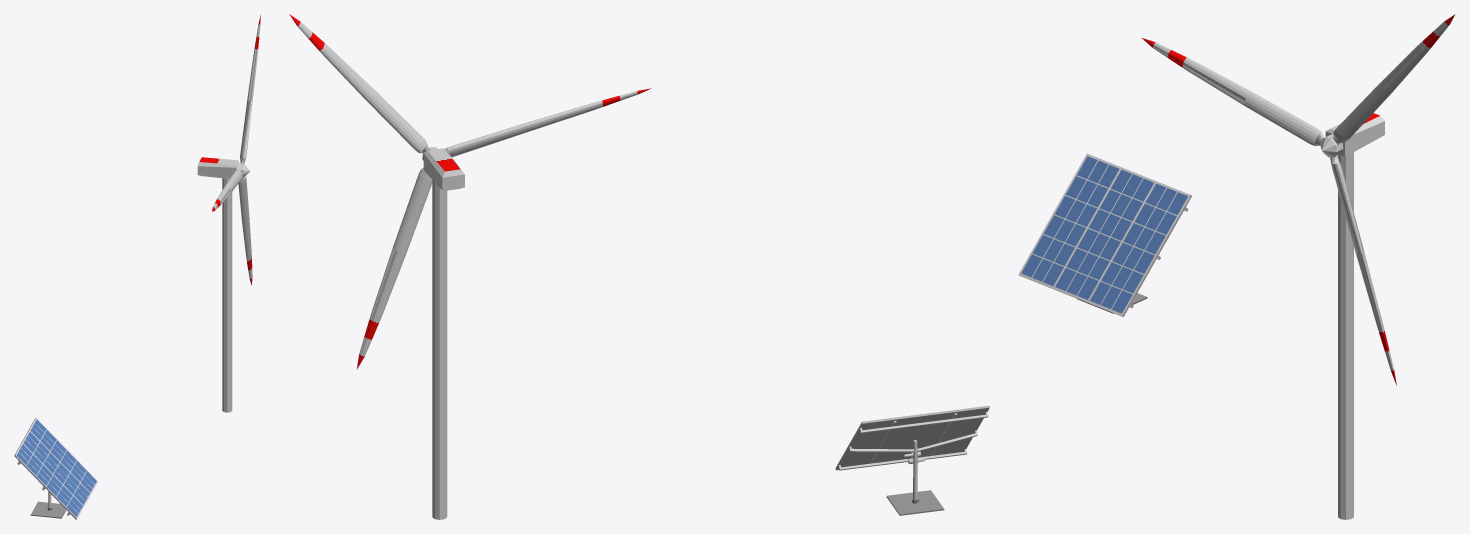
Rendered from sensorSensei.glb.
3 renders of one model, left to right at view 1: azimuth 30°, elevation 25°; view 2: azimuth 150°, elevation 25°; view 3: azimuth 270°, elevation 25°, orthographic. The views are drawn at different scales.
Parts seen in each view (by area): view 1: Object_2, Plane_003, Cylinder; view 2: Object_2, Plane_003, Cylinder; view 3: Plane_003, Object_2.
Part boxes in pixels (<box>): Object_2: <box>197,14,260,412</box>; Plane_003: <box>14,417,97,519</box>; Cylinder: <box>30,491,66,518</box>; Object_2: <box>289,14,651,519</box>; Plane_003: <box>835,405,989,470</box>; Cylinder: <box>886,440,944,515</box>; Plane_003: <box>1018,153,1191,316</box>; Object_2: <box>1142,14,1455,519</box>.
Bounding box in the file's own units: 1.79 × 1.66 × 1.19.
Materials: 3 (3 with a texture image).
